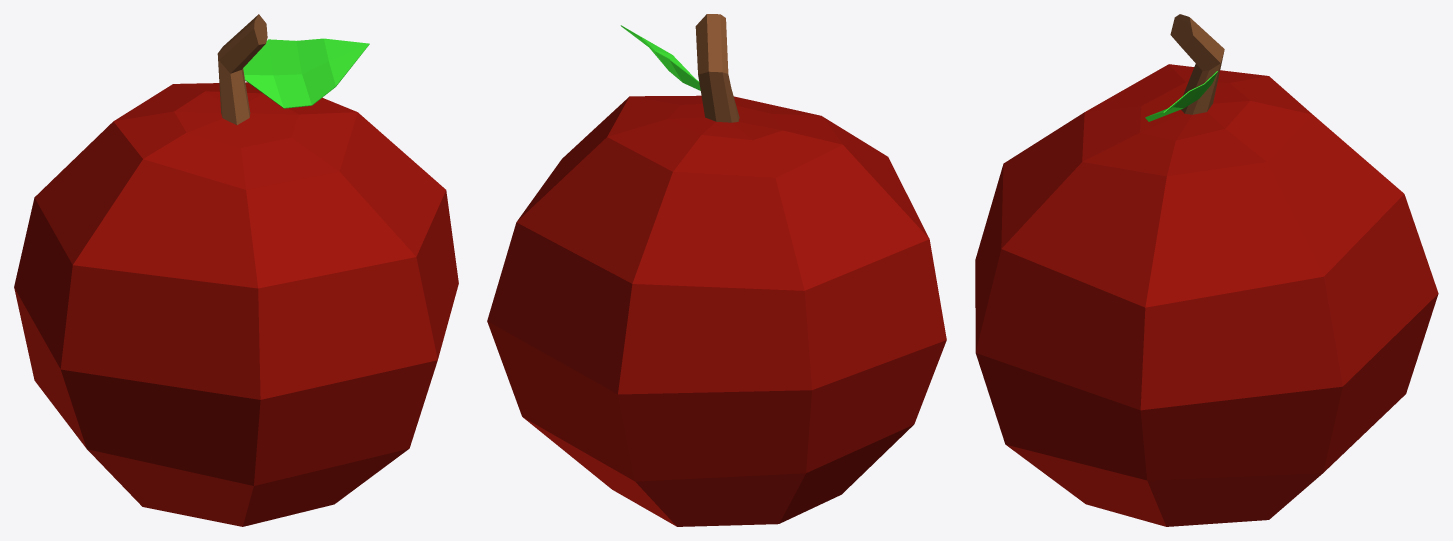
The model's file is uploads_files_3829892_SingleAppleObject.fbx.
The picture shows the model from 3 angles, left to right: view 1: azimuth 30°, elevation 25°; view 2: azimuth 150°, elevation 25°; view 3: azimuth 270°, elevation 25°; orthographic projection. The views are drawn at different scales.
Parts seen in each view (by area): view 1: AppleObject; view 2: AppleObject; view 3: AppleObject.
Part boxes in pixels (x1,y1,x2,y2): AppleObject: (14,14,458,526); AppleObject: (487,14,946,526); AppleObject: (975,14,1438,526).
Size of the model in its own units: 206 by 233 by 203.
